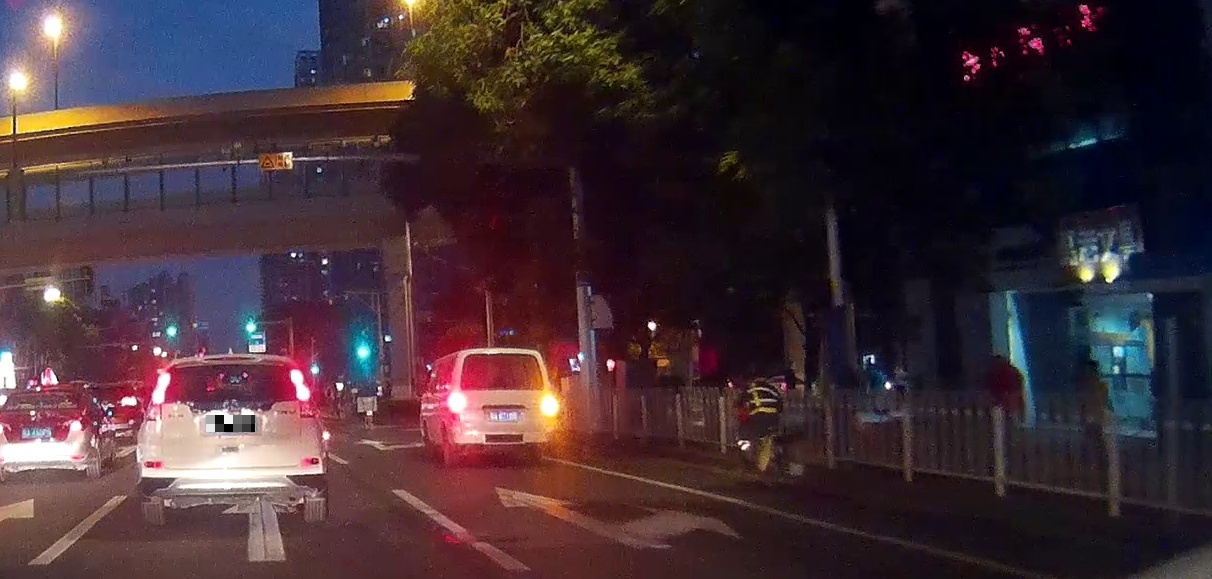L_light: (144, 371, 171, 420), (446, 391, 464, 422)
R_light: (289, 368, 318, 418), (540, 391, 559, 423)
T_light: (202, 356, 255, 362), (490, 353, 513, 357)
night-no: (136, 354, 328, 526)
night-right: (446, 349, 560, 468)
plate_1: (206, 415, 255, 432)
